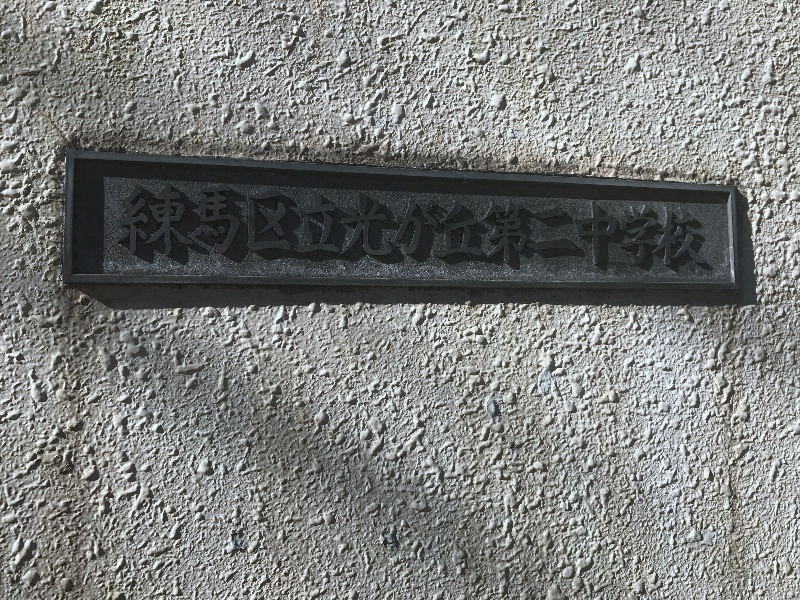text: (129, 184, 144, 268), (145, 184, 160, 268), (161, 184, 176, 268), (177, 184, 192, 268), (193, 184, 208, 268), (209, 184, 224, 268), (225, 184, 240, 268), (241, 184, 256, 268), (257, 184, 272, 268), (273, 184, 288, 268), (289, 184, 304, 268), (305, 184, 320, 268), (321, 184, 336, 268), (337, 184, 352, 268), (353, 184, 368, 268), (369, 184, 384, 268), (385, 184, 400, 268), (401, 184, 416, 268), (417, 184, 432, 268), (433, 184, 448, 268), (449, 184, 464, 268), (465, 184, 480, 268), (481, 184, 496, 268), (497, 184, 512, 268), (513, 184, 528, 268), (529, 184, 544, 268), (545, 184, 560, 268), (561, 184, 576, 268), (577, 184, 592, 268), (593, 184, 608, 268), (609, 184, 624, 268), (625, 184, 640, 268), (641, 184, 656, 268), (657, 184, 672, 268), (673, 184, 688, 268), (689, 184, 704, 268), (124, 184, 128, 268), (705, 184, 708, 268)
